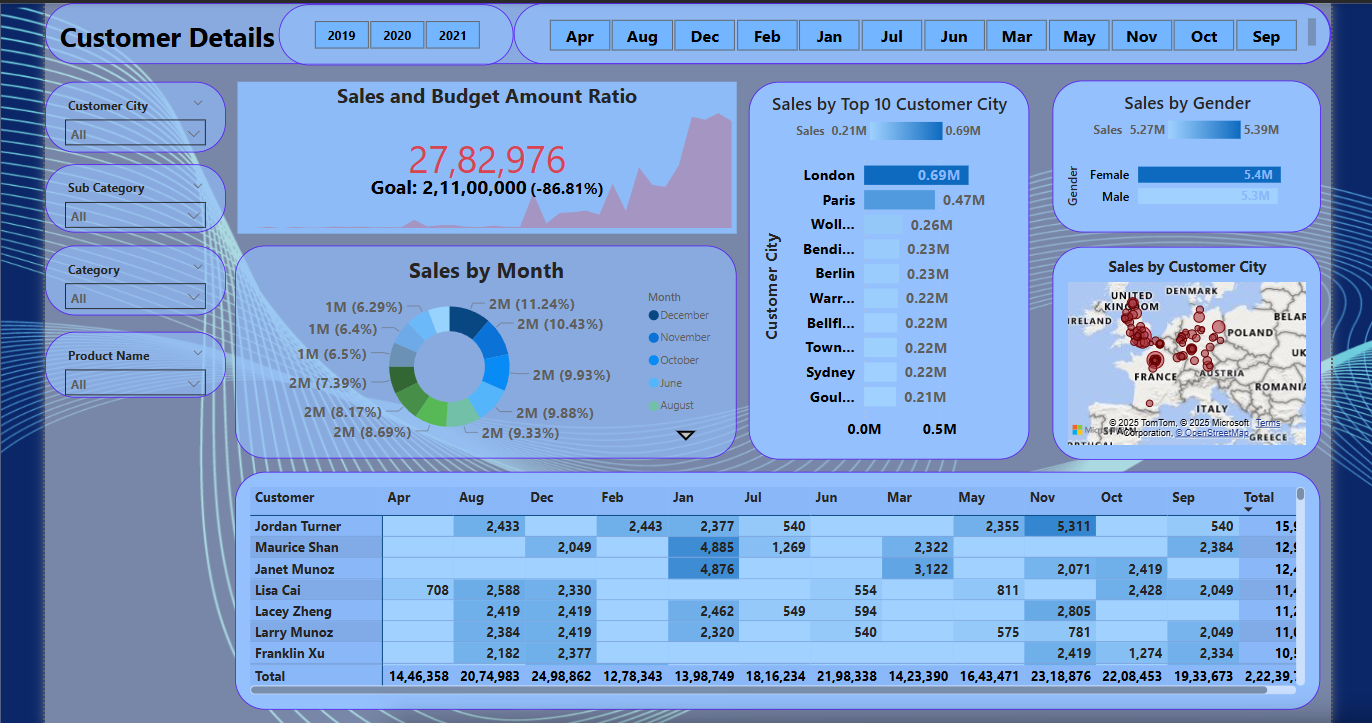

What the dashboard file says about the page in this screenshot:
{"tool":"powerbi","page":{"name":"Customer Details","canvas":[1280,720],"ordinal":1},"visuals":[{"type":"textbox","box":[0,0,1280,61.1],"z":0},{"type":"slicer","fields":{"Values":["DIM_Customer.Customer City"]},"box":[0,77.8,179.6,70.6],"z":1000},{"type":"slicer","fields":{"Values":["DIM_Products.Sub Category"]},"box":[0,160.4,179.6,68.3],"z":2000},{"type":"slicer","fields":{"Values":["DIM_Products.Product Category"]},"box":[0,241.9,179.6,69.4],"z":3000},{"type":"slicer","fields":{"Values":["DIM_Products.Product Name"]},"box":[0,326.9,179.6,65.9],"z":4000},{"type":"slicer","fields":{"Values":["Dim_Date_Excel.Year"]},"box":[232.6,1.2,233.9,61],"z":5000},{"type":"slicer","fields":{"Values":["Dim_Date_Excel.MonthShort"]},"box":[467,0,813,61.1],"z":6000},{"type":"kpi","title":"Sales and Budget Amount Ratio","fields":{"Indicator":["Key Measures.Sales"],"Goal":["Key Measures.Budget_Amount"],"TrendLine":["FactInternetSale.SalesAmount"]},"box":[191.6,77.8,496.9,150.9],"z":7000},{"type":"donutChart","fields":{"Y":["Key Measures.Sales"],"Category":["Dim_Date_Excel.Month"]},"box":[189.2,241.9,499.3,211.9],"z":8000},{"type":"barChart","title":"Sales by Top 10 Customer City","fields":{"Y":["Key Measures.Sales"],"Category":["DIM_Customer.Customer City"]},"box":[700.5,77.8,279,376],"z":9000},{"type":"barChart","title":"Sales by Gender","fields":{"Y":["Key Measures.Sales"],"Category":["DIM_Customer.Gender"]},"box":[1002.5,77.3,267,151.1],"z":10000},{"type":"pivotTable","fields":{"Rows":["DIM_Customer.Full Name"],"Values":["Key Measures.Sales"],"Columns":["Dim_Date_Excel.MonthShort"]},"box":[189.5,466.5,1079.9,236.8],"z":11000},{"type":"map","fields":{"Category":["DIM_Customer.Customer City"],"Size":["Key Measures.Sales"]},"box":[1002.5,242.4,267,212],"z":12000}]}

Visuals, with their boxes on the page's 1280x720 design canvas (x1, y1, x2, y2). These are canvas units, not pixel positions in the 1372x723 screenshot, which may show the page scaled, cropped or inside an application window:
textbox: BBox(0, 0, 1280, 61)
slicer - DIM_Customer.Customer City: BBox(0, 78, 180, 148)
slicer - DIM_Products.Sub Category: BBox(0, 160, 180, 229)
slicer - DIM_Products.Product Category: BBox(0, 242, 180, 311)
slicer - DIM_Products.Product Name: BBox(0, 327, 180, 393)
slicer - Dim_Date_Excel.Year: BBox(233, 1, 466, 62)
slicer - Dim_Date_Excel.MonthShort: BBox(467, 0, 1280, 61)
"Sales and Budget Amount Ratio" kpi: BBox(192, 78, 688, 229)
donutChart - Key Measures.Sales x Dim_Date_Excel.Month: BBox(189, 242, 688, 454)
"Sales by Top 10 Customer City" barChart: BBox(700, 78, 980, 454)
"Sales by Gender" barChart: BBox(1002, 77, 1270, 228)
pivotTable - DIM_Customer.Full Name x Key Measures.Sales: BBox(190, 466, 1269, 703)
map - DIM_Customer.Customer City x Key Measures.Sales: BBox(1002, 242, 1270, 454)
